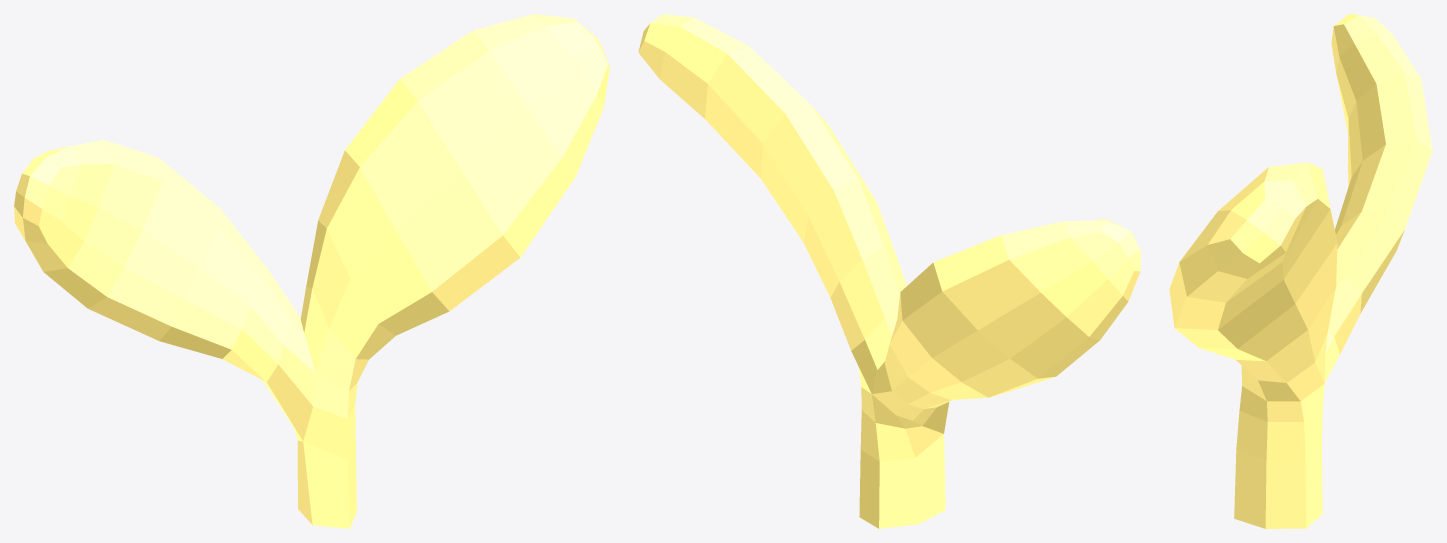
The model's file is seedling_rare.glb.
3 views of the same model, side by side, from view 1: azimuth 30°, elevation 25°; view 2: azimuth 150°, elevation 25°; view 3: azimuth 270°, elevation 25° (orthographic).
Visible parts, largest first — view 1: Seedling; view 2: Seedling; view 3: Seedling.
Boxes of the visible parts, box(x1,y1,x2,y2) form: Seedling: box(14, 14, 609, 528); Seedling: box(638, 14, 1140, 528); Seedling: box(1169, 14, 1432, 528).
Bounding box in the file's own units: 0.7311 × 0.5749 × 0.3096.
